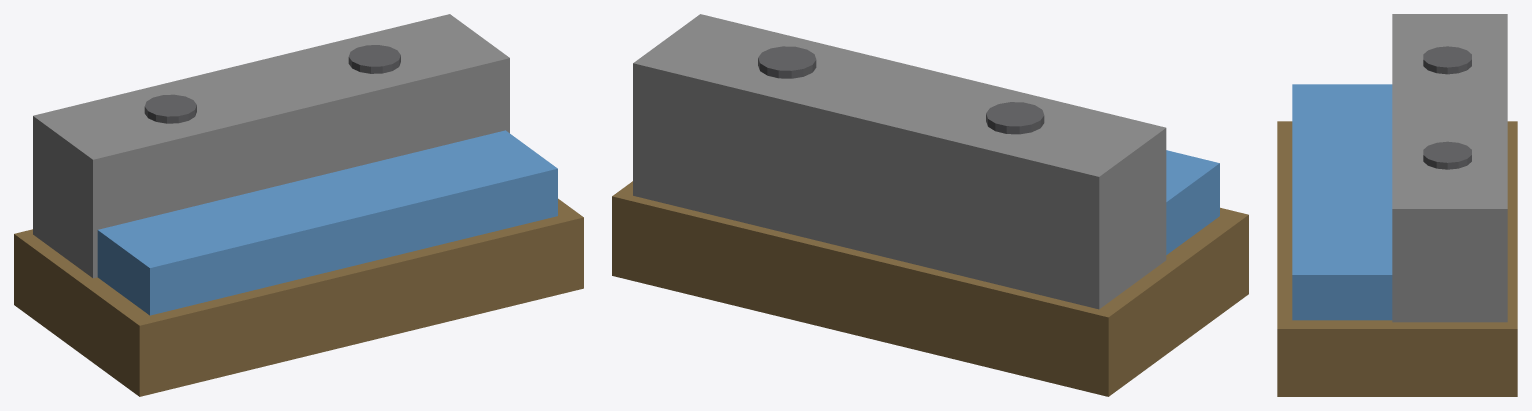
File: vge_oxyfarm.obj
3 views of the same model, side by side, from view 1: azimuth 30°, elevation 25°; view 2: azimuth 150°, elevation 25°; view 3: azimuth 270°, elevation 25° (orthographic). The views are drawn at different scales.
Parts seen in each view (by area): view 1: vge_oxyfarm_1, vge_oxyfarm_0, vge_oxyfarm_4, vge_oxyfarm_2, vge_oxyfarm_3; view 2: vge_oxyfarm_1, vge_oxyfarm_0, vge_oxyfarm_4, vge_oxyfarm_3, vge_oxyfarm_2; view 3: vge_oxyfarm_1, vge_oxyfarm_4, vge_oxyfarm_0, vge_oxyfarm_2, vge_oxyfarm_3.
Part boxes in pixels (x1,y1,x2,y2): vge_oxyfarm_1: (33,14,509,278); vge_oxyfarm_0: (14,198,583,396); vge_oxyfarm_4: (97,130,557,315); vge_oxyfarm_2: (144,94,196,123); vge_oxyfarm_3: (348,45,400,73); vge_oxyfarm_1: (633,14,1166,309); vge_oxyfarm_0: (612,181,1248,396); vge_oxyfarm_4: (1166,150,1219,254); vge_oxyfarm_3: (758,46,816,78); vge_oxyfarm_2: (986,102,1044,134); vge_oxyfarm_1: (1392,14,1507,322); vge_oxyfarm_4: (1292,84,1392,320); vge_oxyfarm_0: (1277,121,1517,396); vge_oxyfarm_2: (1423,46,1471,74); vge_oxyfarm_3: (1423,141,1471,169).
Bounding box in the file's own units: 1.96 × 0.83 × 0.96.
